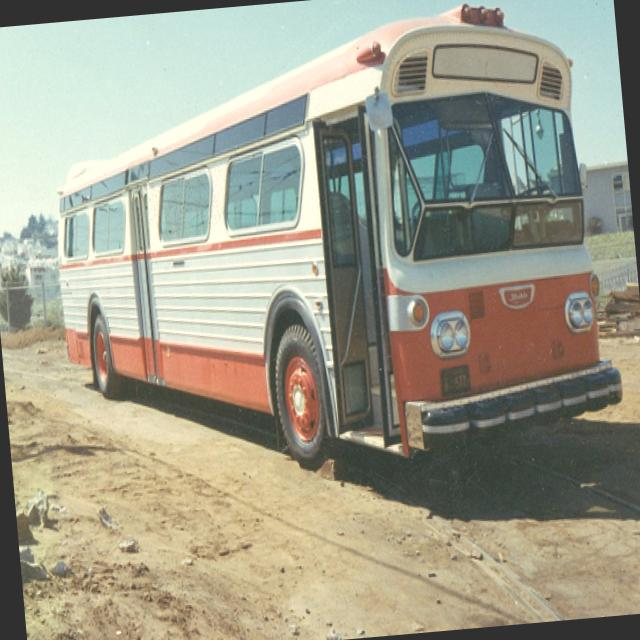Vehicle: (38, 0, 629, 492)
